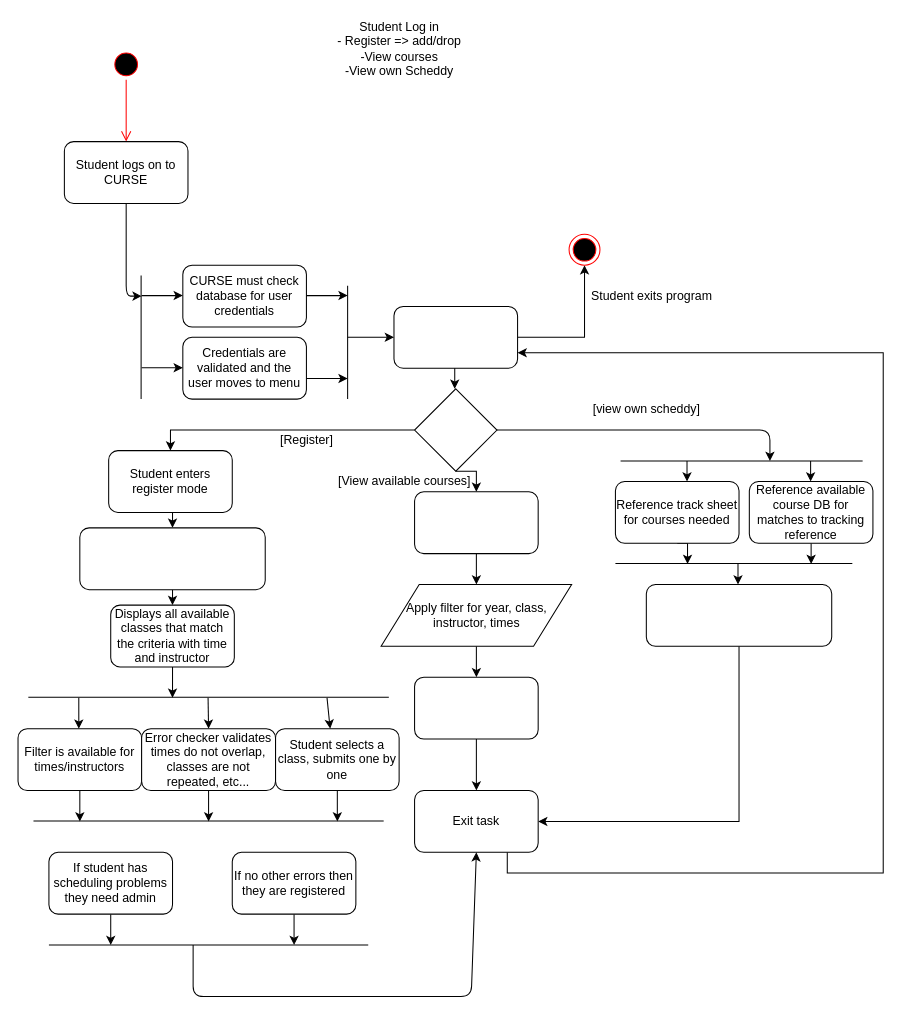
Some shapes in this 909 by 1023 pixel diagram are drawn without their labels. Each missing label, with the centre of its shape:
"Choose Task" belongs at [455,429].
"Display courses and their times if the needed courses matched available" belongs at [738,614].
"Program systematically prints course by course" belongs at [476,707].
"Reference courses DB for all courses" belongs at [476,522].
"System matches needed classes to available with major/tracking sheet DB" belongs at [172,558].
"User arrives at menu" belongs at [455,336].
